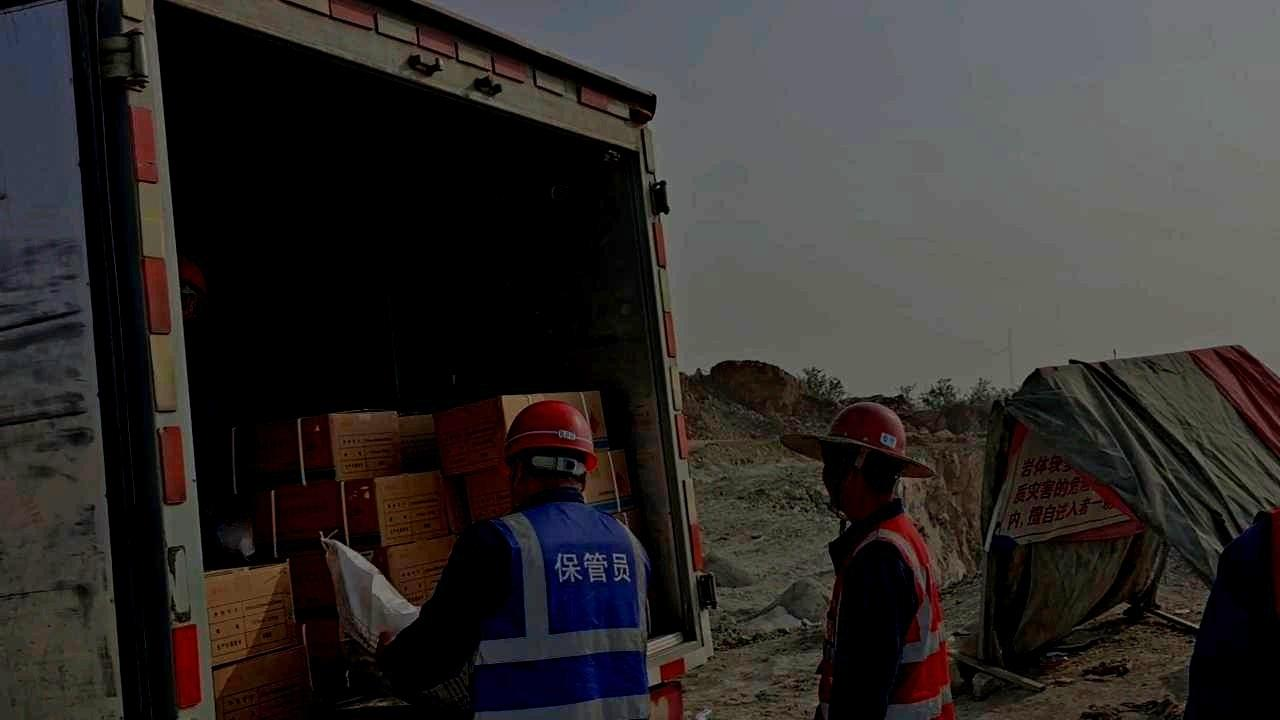helmet: (502, 399, 600, 507), (821, 402, 906, 511)
